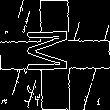M_E: (29, 32, 81, 78)
